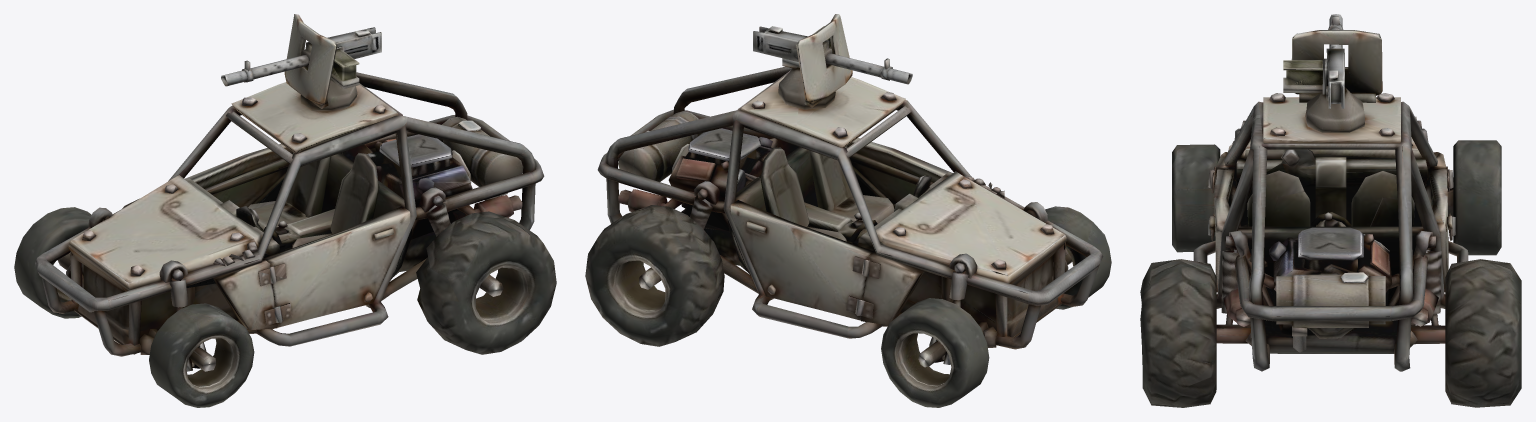
The model's file is Car_Small.glb.
3 renders of one model, left to right at view 1: azimuth 30°, elevation 25°; view 2: azimuth 150°, elevation 25°; view 3: azimuth 270°, elevation 25°, orthographic. The views are drawn at different scales.
Visible parts, largest first — view 1: geometry_0; view 2: geometry_0; view 3: geometry_0.
Boxes of the visible parts, box(x1,y1,x2,y2) form: geometry_0: box(14, 14, 556, 407); geometry_0: box(585, 14, 1111, 407); geometry_0: box(1140, 14, 1521, 407).
Bounding box in the file's own units: 0.9536 × 0.5869 × 0.6401.
1 material, 1 textured.
